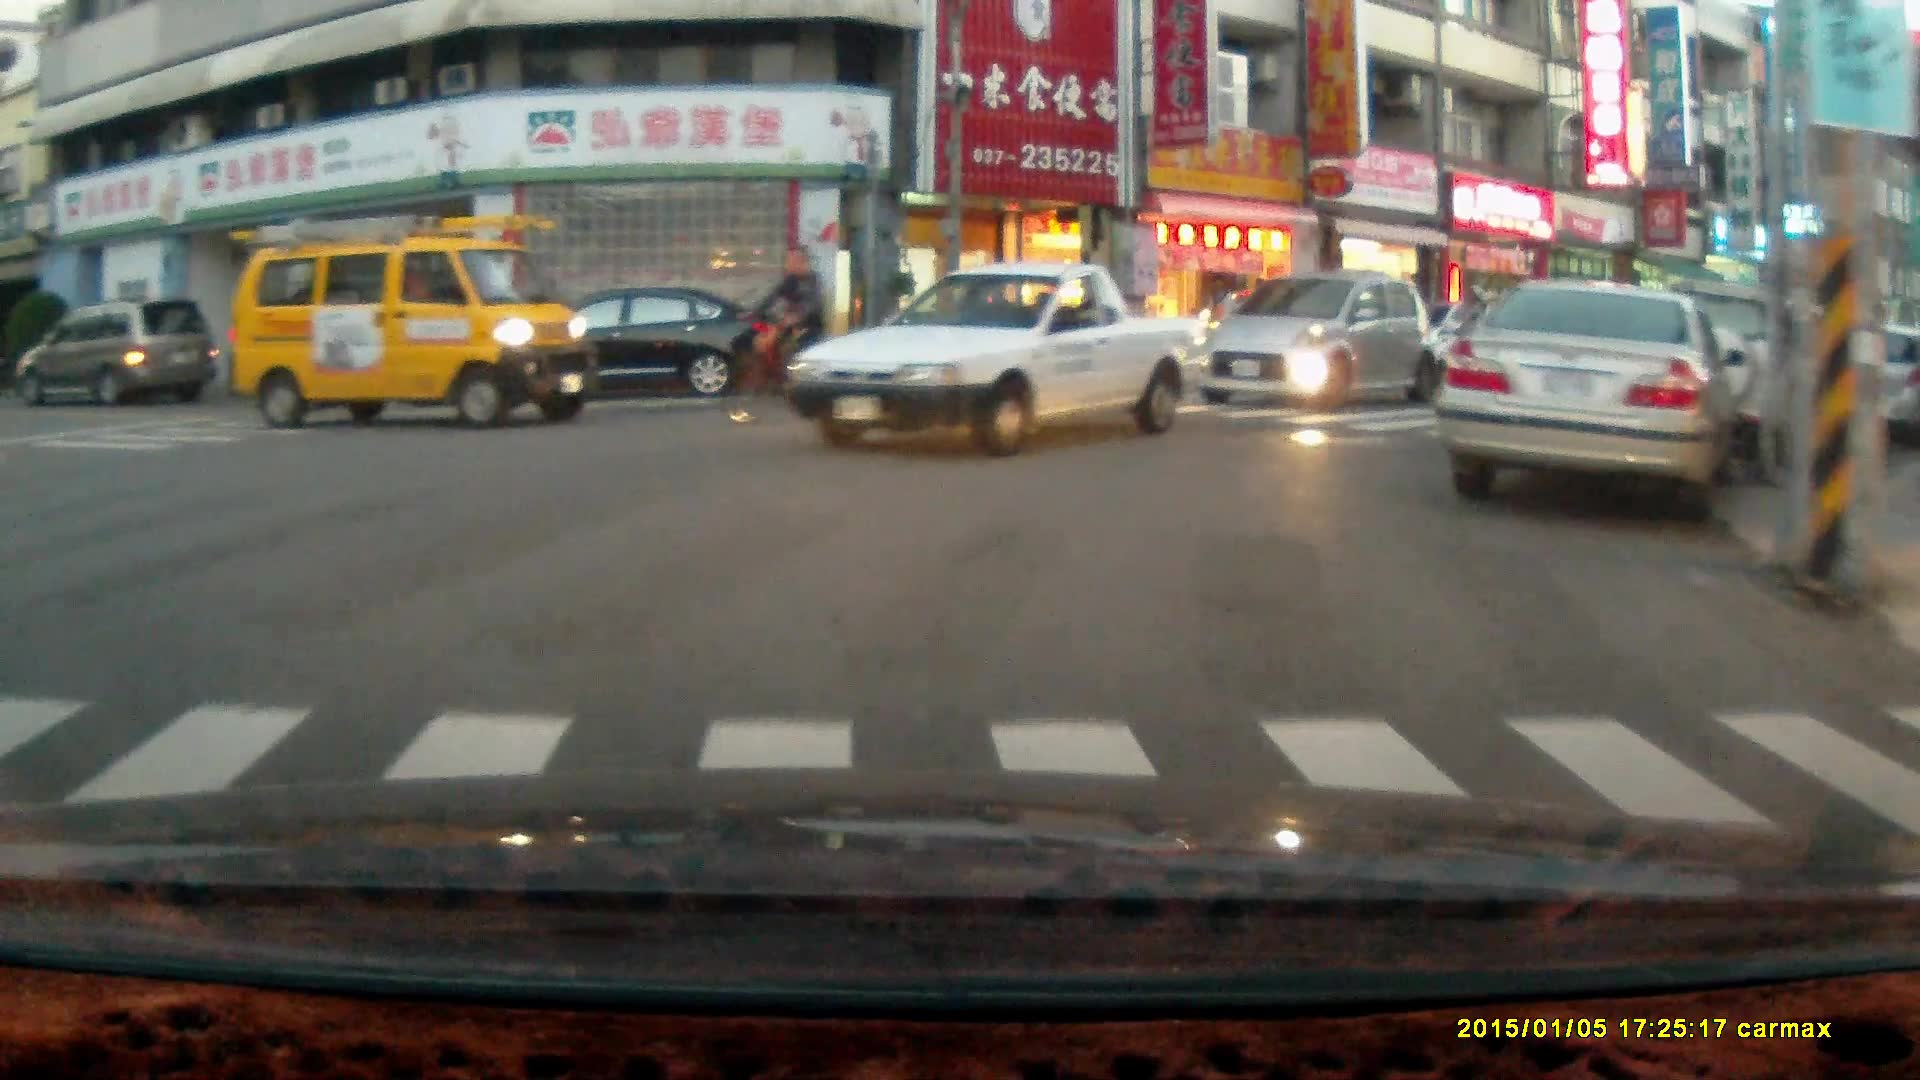pedestrian: (1202, 270, 1238, 366)
rider: (719, 242, 848, 422), (1424, 279, 1495, 394)
vehicle: (786, 263, 1212, 464), (223, 218, 595, 430), (1442, 278, 1752, 529), (1612, 291, 1886, 482), (491, 285, 786, 411), (1196, 274, 1440, 416), (13, 297, 219, 414)
